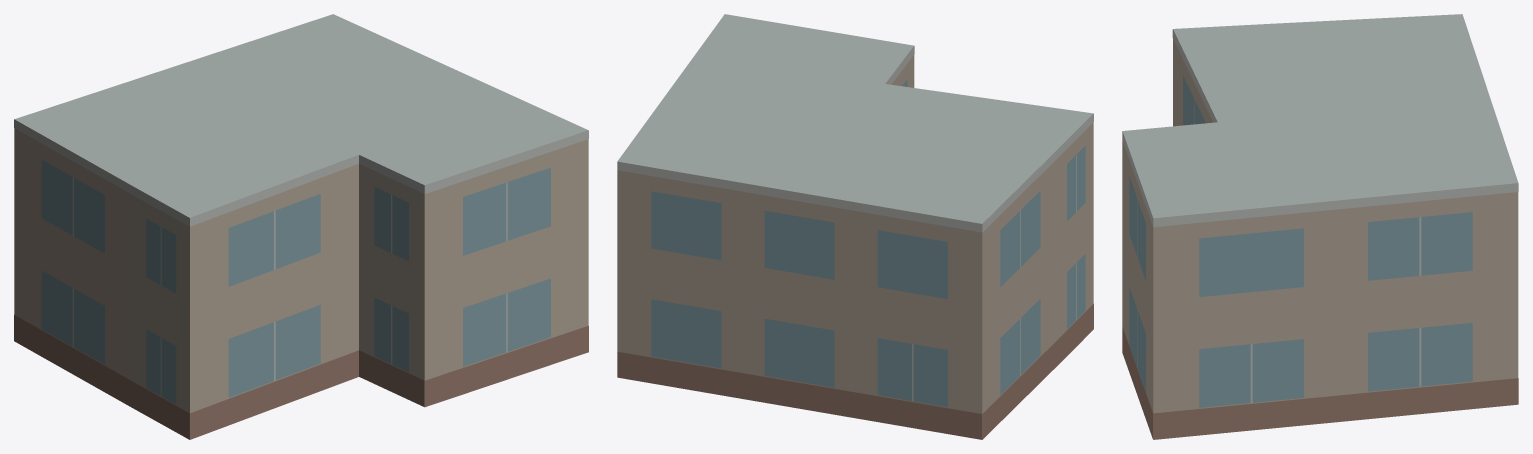
File: survey-upis-32919886.glb
3 views of the same model, side by side, from view 1: azimuth 30°, elevation 25°; view 2: azimuth 150°, elevation 25°; view 3: azimuth 270°, elevation 25° (orthographic). The views are drawn at different scales.
Parts seen in each view (by area): view 1: survey-upis-32919886.tmp; view 2: survey-upis-32919886.tmp; view 3: survey-upis-32919886.tmp.
Part boxes in pixels (x1,y1,x2,y2): survey-upis-32919886.tmp: (14,14,588,439); survey-upis-32919886.tmp: (617,14,1093,439); survey-upis-32919886.tmp: (1122,14,1518,439).
Bounding box in the file's own units: 12.08 × 6.1 × 9.9.
